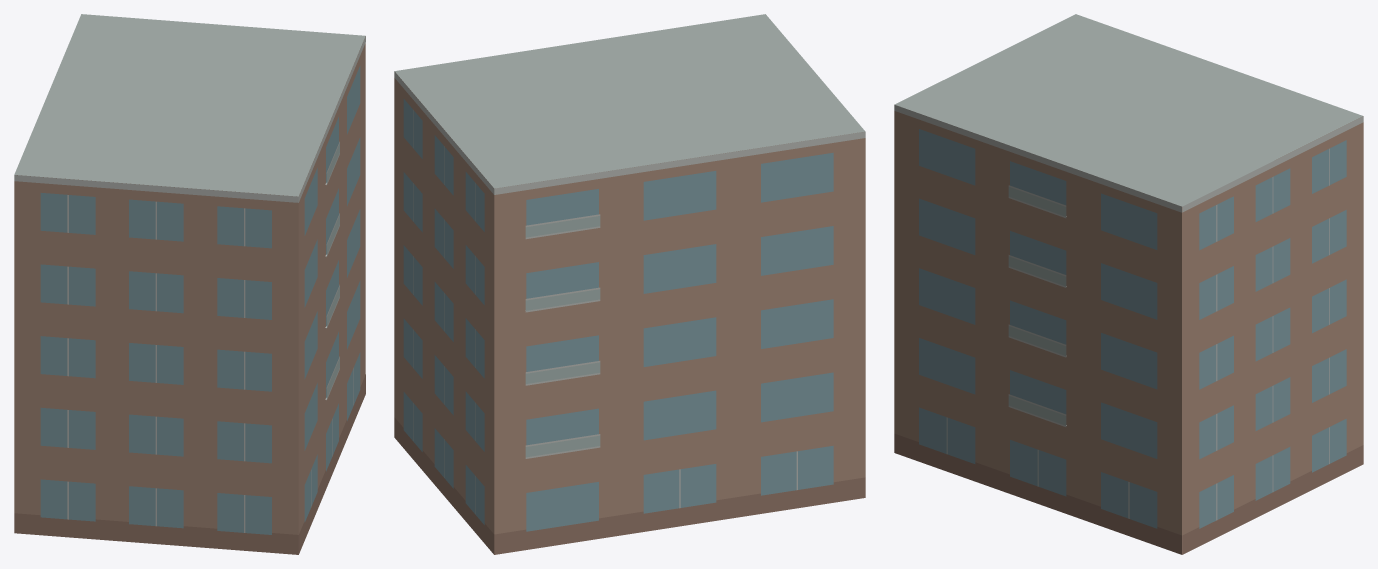
The model's file is survey-upis-32622104.glb.
The picture shows the model from 3 angles, left to right: view 1: azimuth 30°, elevation 25°; view 2: azimuth 150°, elevation 25°; view 3: azimuth 270°, elevation 25°; orthographic projection. The views are drawn at different scales.
Visible parts, largest first — view 1: survey-upis-32622104.tmp; view 2: survey-upis-32622104.tmp; view 3: survey-upis-32622104.tmp.
Boxes of the visible parts, x1,y1,x2,y2 form: survey-upis-32622104.tmp: (14,14,365,554); survey-upis-32622104.tmp: (394,14,865,554); survey-upis-32622104.tmp: (894,14,1363,554).
Size of the model in its own units: 16.44 by 13.85 by 16.92.
